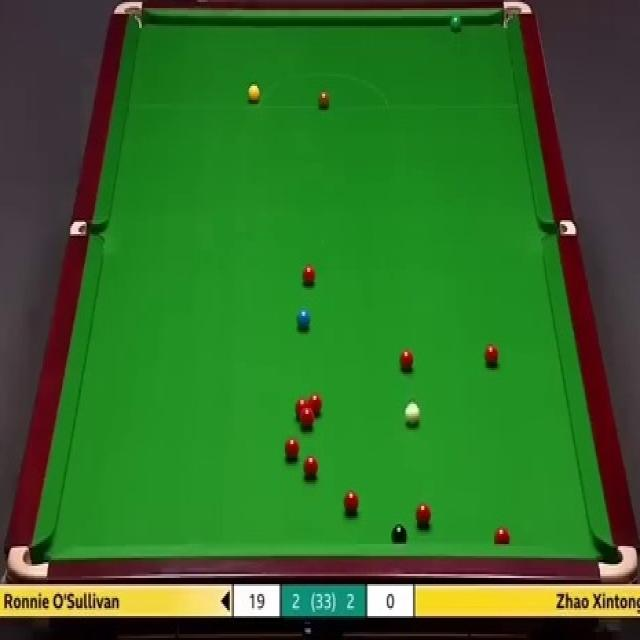black-ball: (392, 523, 408, 545)
blue-ball: (296, 308, 312, 329)
brown-ball: (318, 88, 330, 108)
green-ball: (450, 11, 463, 30)
red-ball: (303, 451, 320, 480), (398, 346, 415, 373), (344, 489, 360, 517), (415, 504, 432, 530), (301, 264, 316, 290), (285, 434, 299, 461), (484, 344, 498, 369), (294, 398, 308, 422), (309, 393, 322, 418), (493, 526, 511, 543), (300, 411, 316, 430)
white-ball: (401, 402, 421, 426)
yellow-ball: (247, 86, 259, 102)
